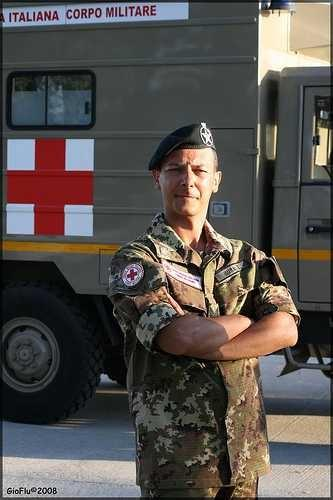car: (0, 0, 332, 426)
